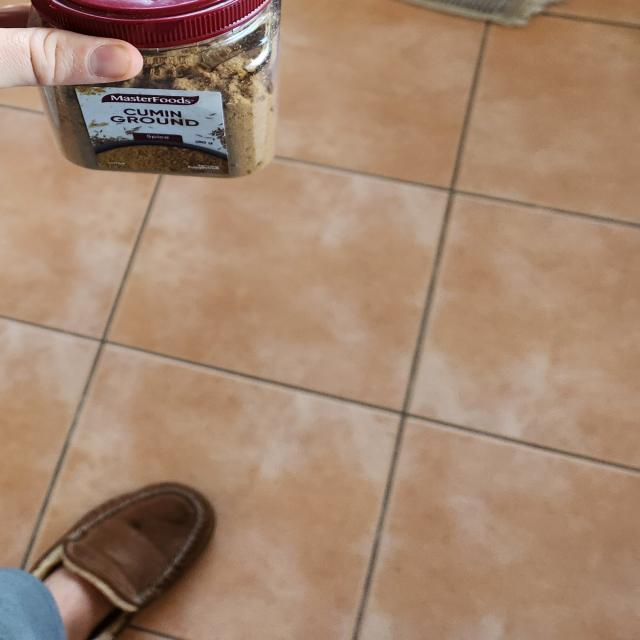cumin: (28, 0, 285, 180)
